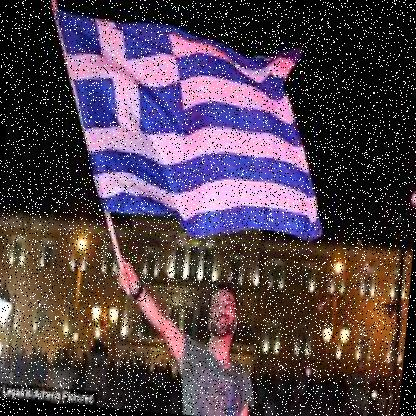gr: (29, 1, 345, 253)
